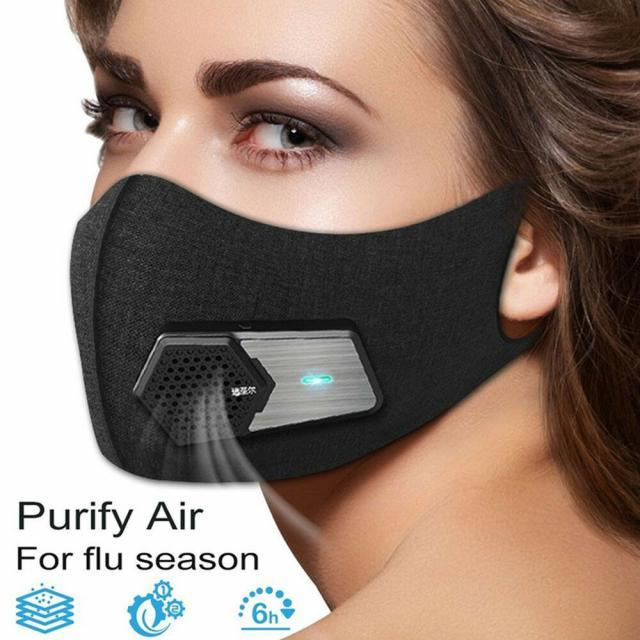1_mascarilla: (69, 173, 516, 482)
